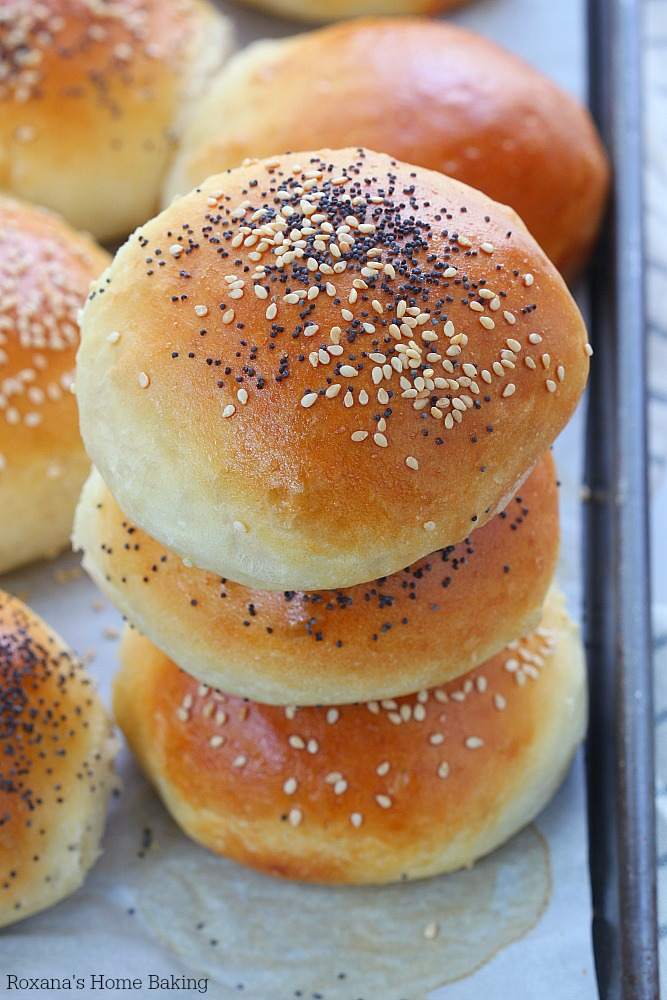hamburger_buns: (68, 172, 565, 911)
